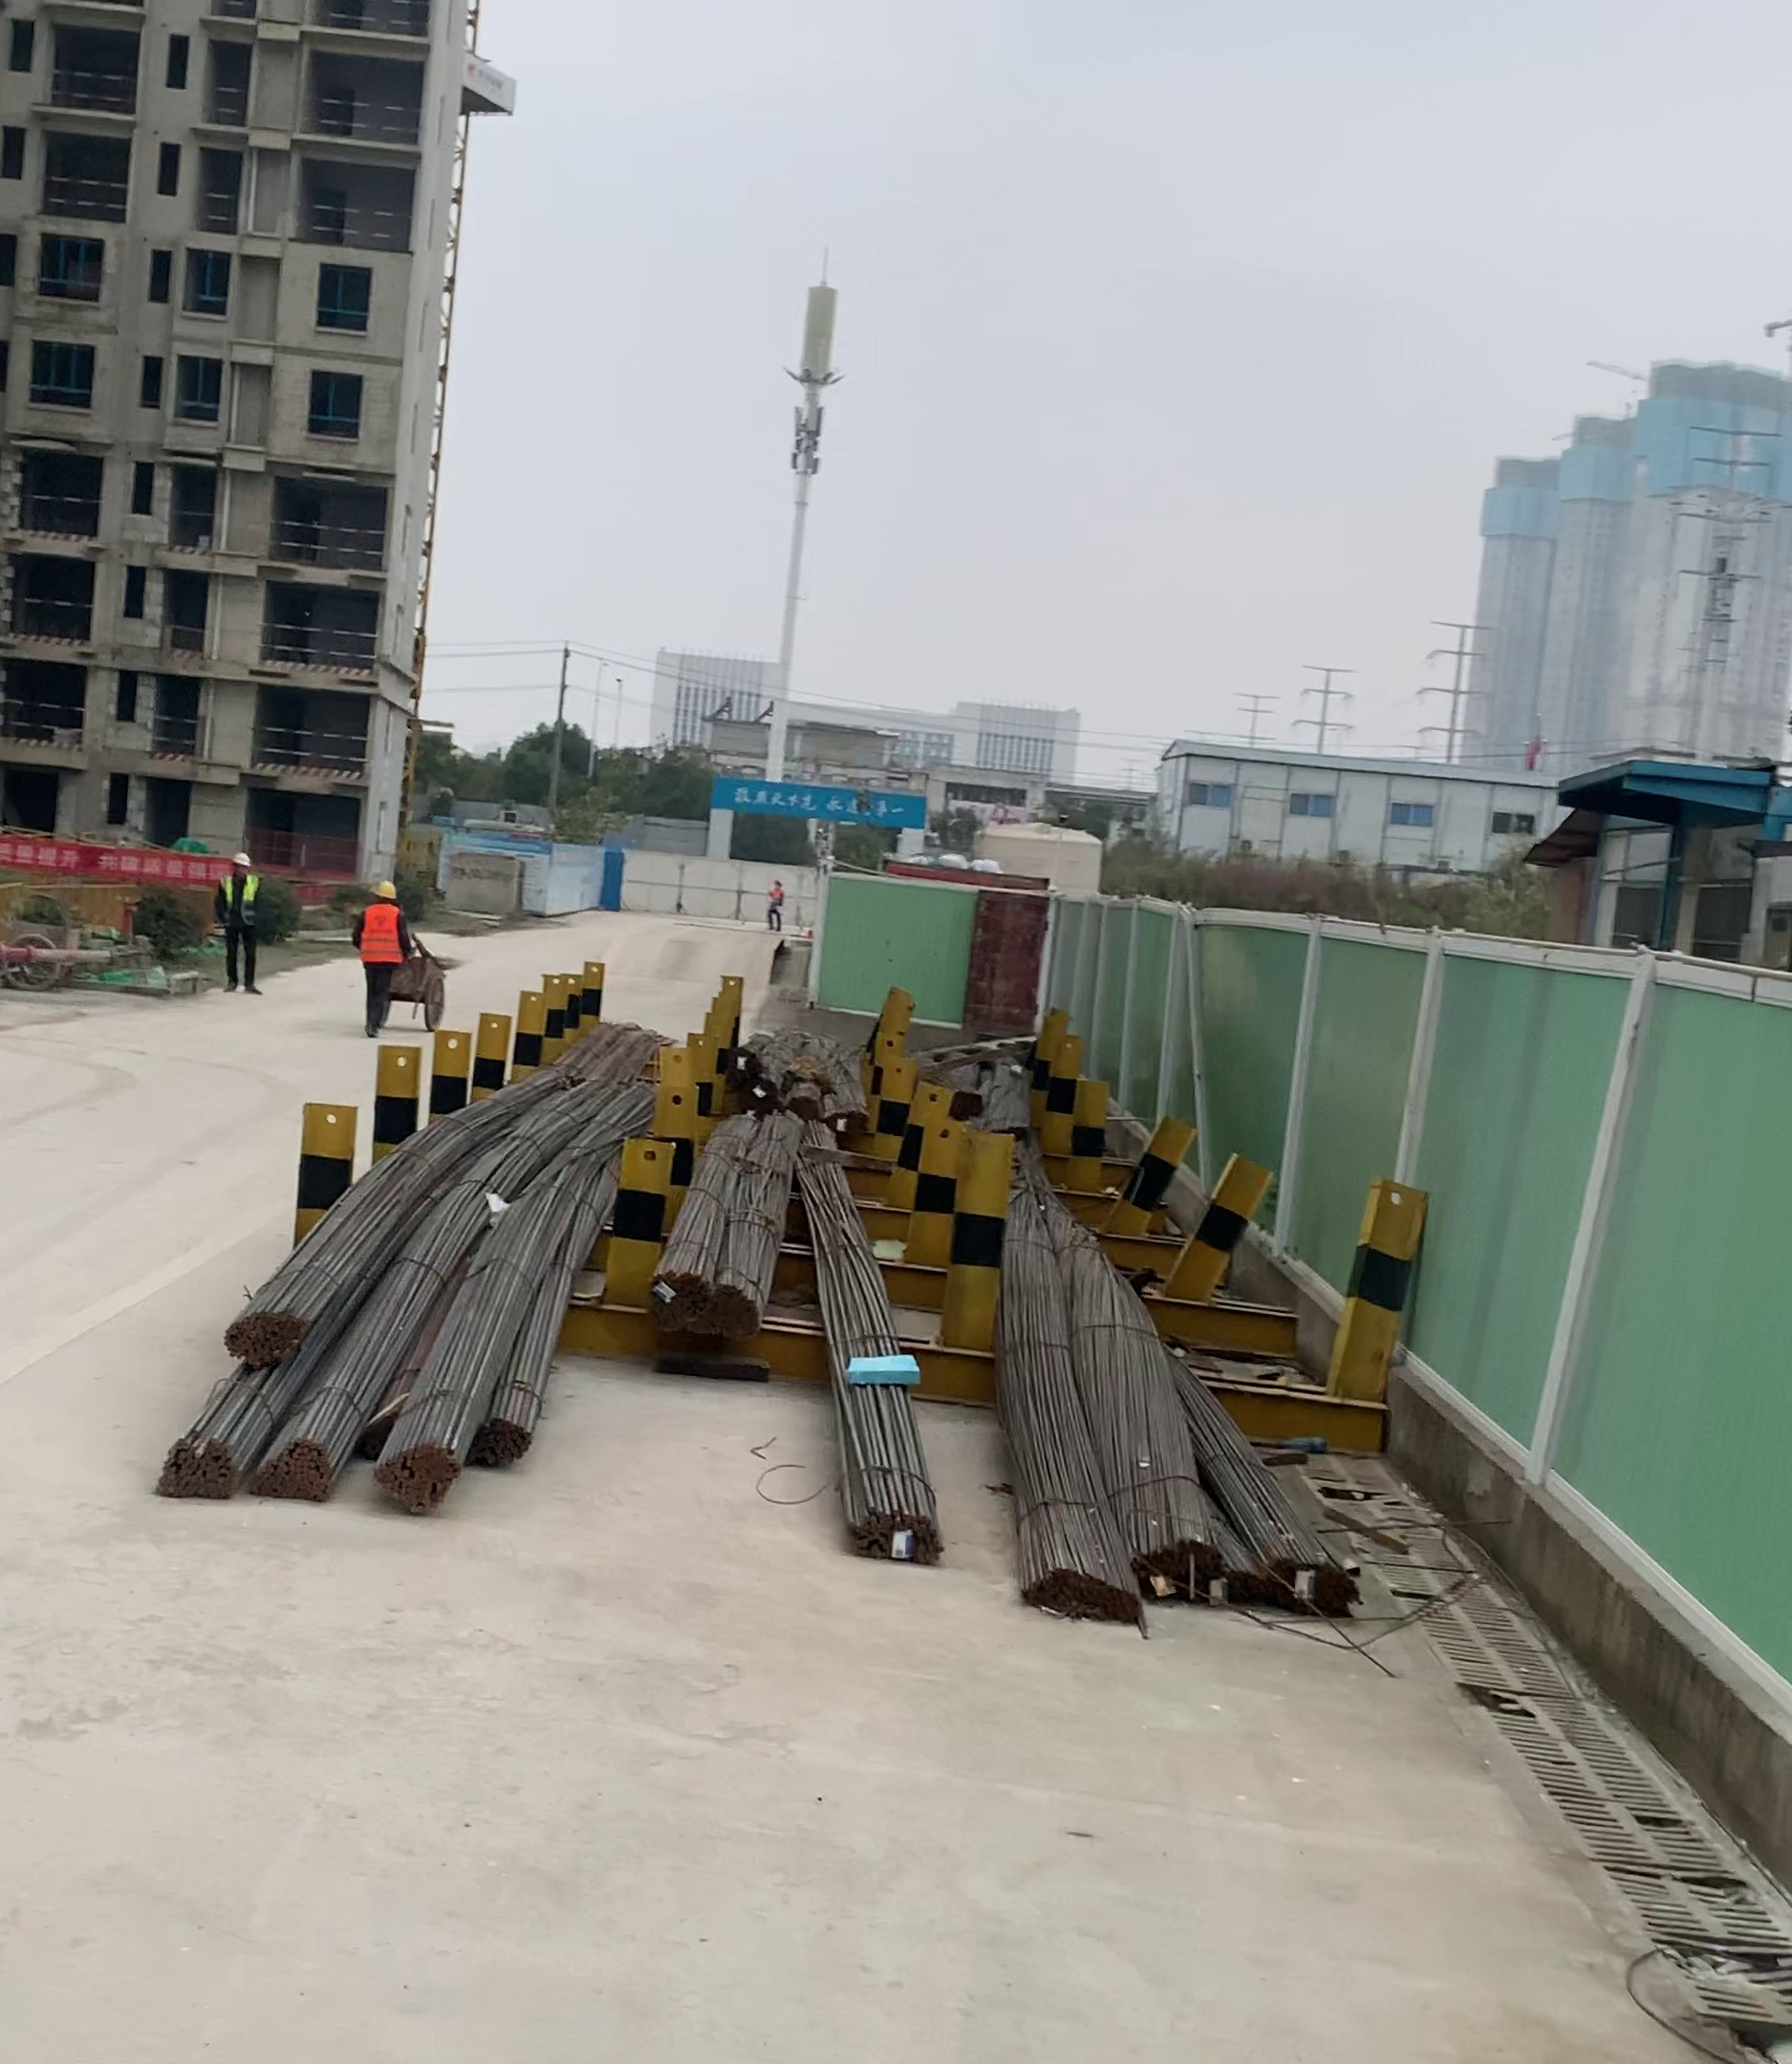rebar: (1014, 1553, 1143, 1638), (837, 1488, 953, 1567), (1264, 1553, 1358, 1627), (1143, 1530, 1227, 1602), (135, 1443, 242, 1499), (253, 1436, 339, 1497), (218, 1315, 307, 1362), (374, 1444, 449, 1501), (702, 1272, 763, 1337), (470, 1422, 537, 1473), (639, 1274, 692, 1337)
